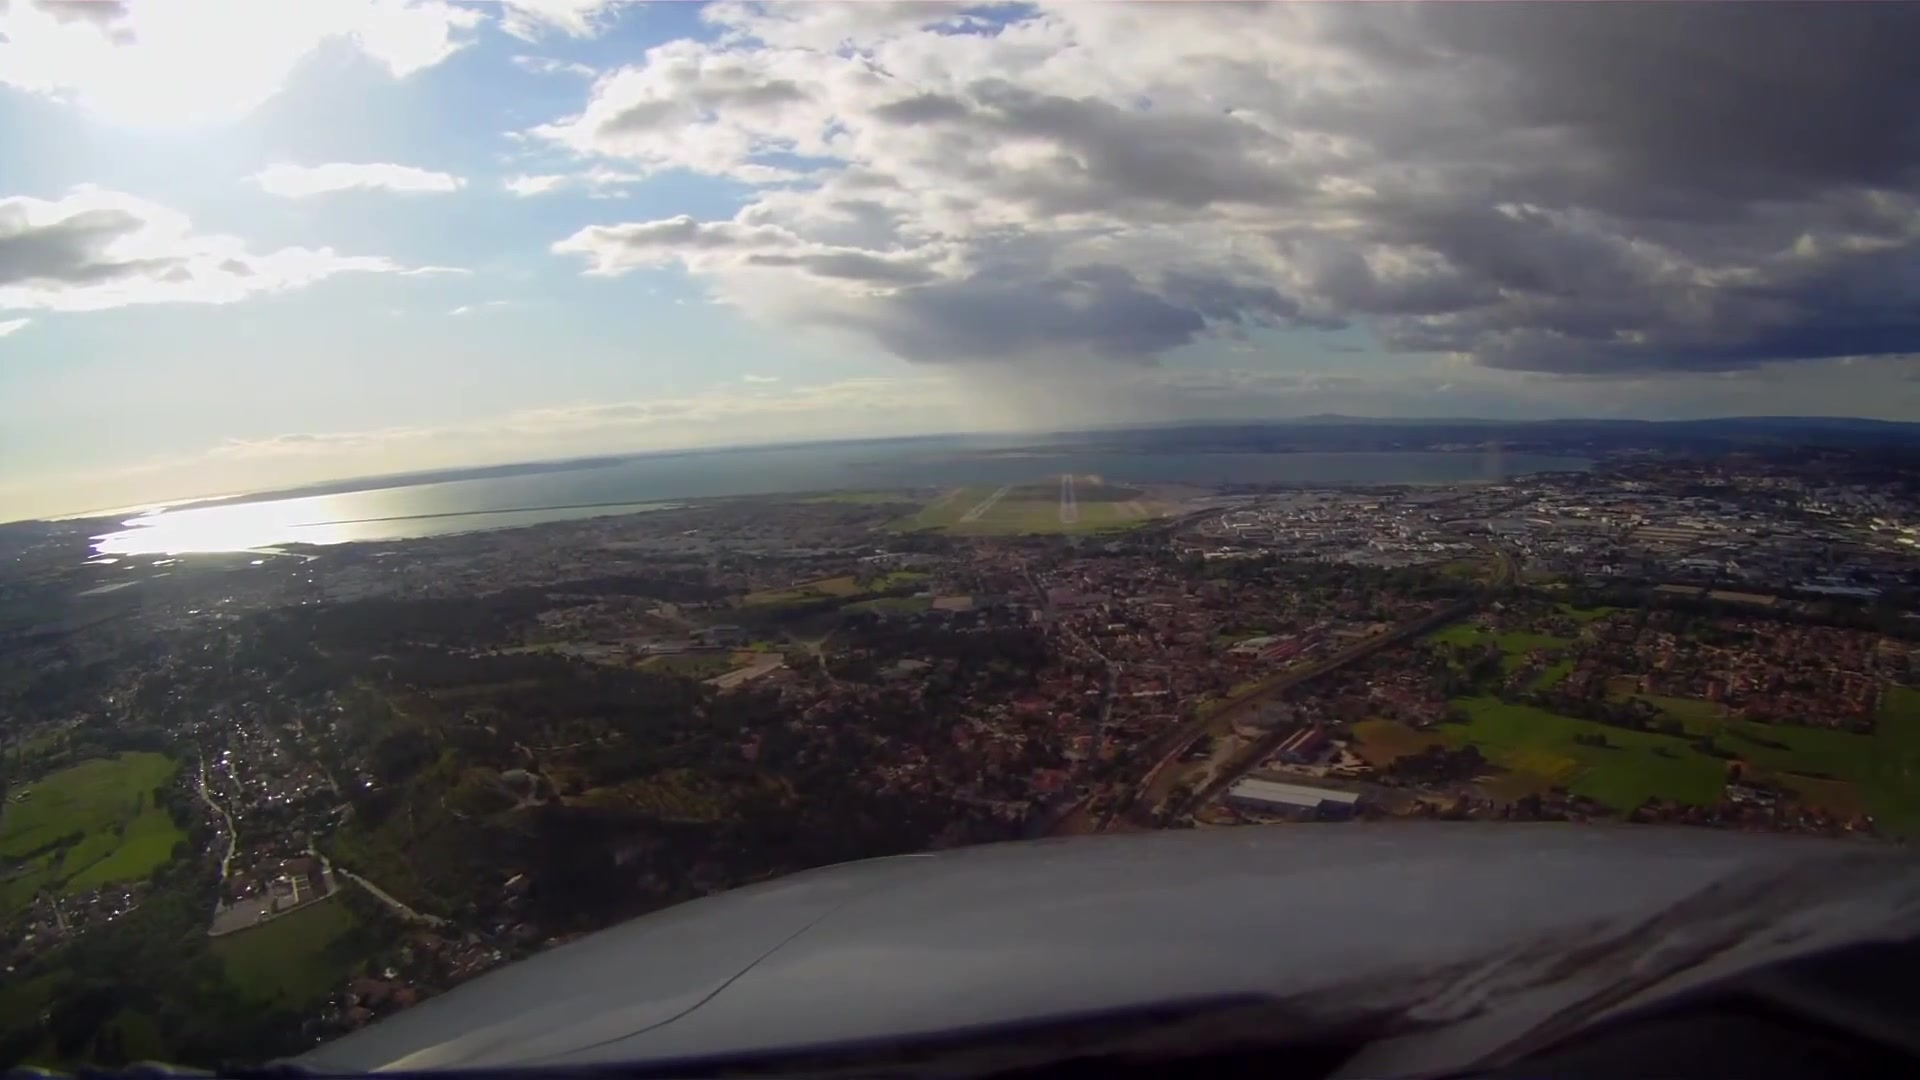runway: (956, 484, 1013, 524), (1058, 473, 1080, 526)
